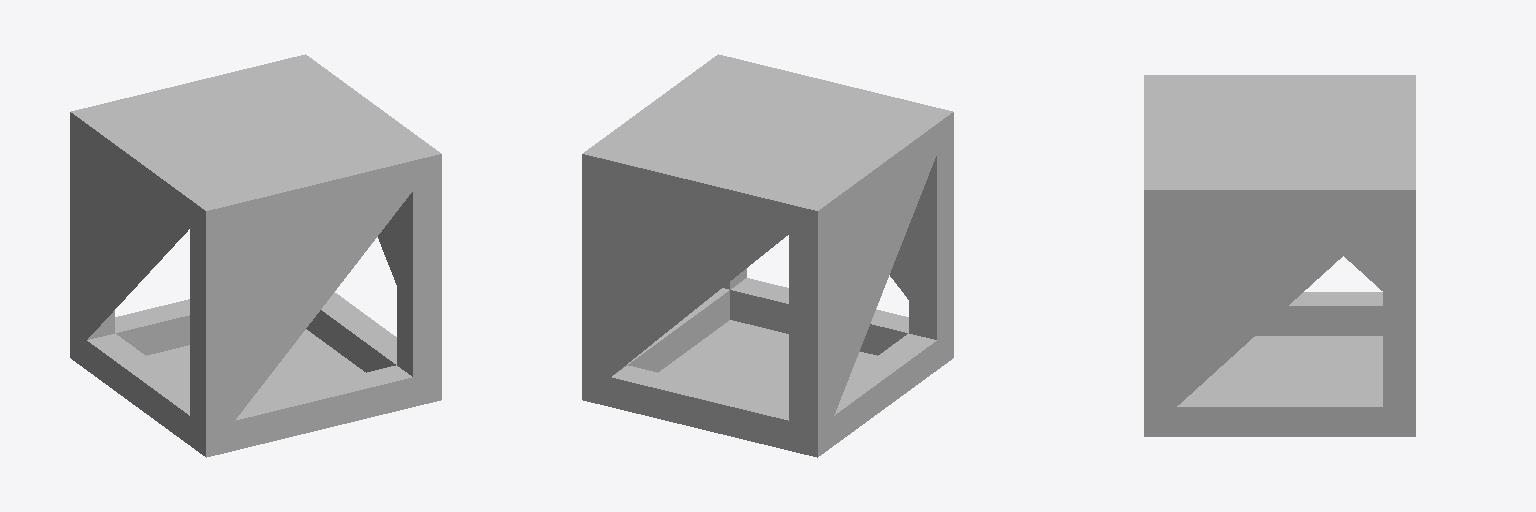
Rendered from darkelement.obj.
3 renders of one model, left to right at view 1: azimuth 30°, elevation 25°; view 2: azimuth 150°, elevation 25°; view 3: azimuth 270°, elevation 25°, orthographic.
Visible parts, largest first — view 1: Cube_Cube.001; view 2: Cube_Cube.001; view 3: Cube_Cube.001.
Part boxes in pixels (x1,y1,x2,y2): Cube_Cube.001: (70,54,441,457); Cube_Cube.001: (582,54,953,457); Cube_Cube.001: (1144,75,1415,436).
Bounding box in the file's own units: 2 × 2 × 2.